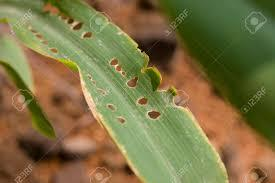fallarmy_worm: (145, 107, 161, 122)
